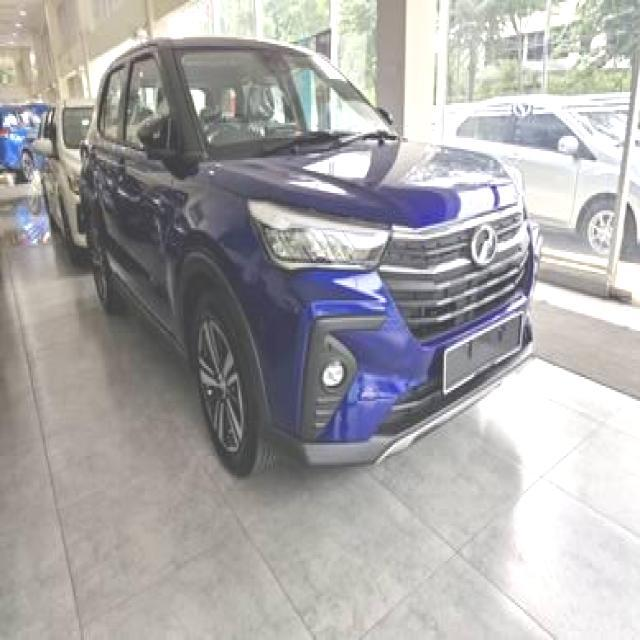PeroduaAtiva: (76, 34, 542, 477)
